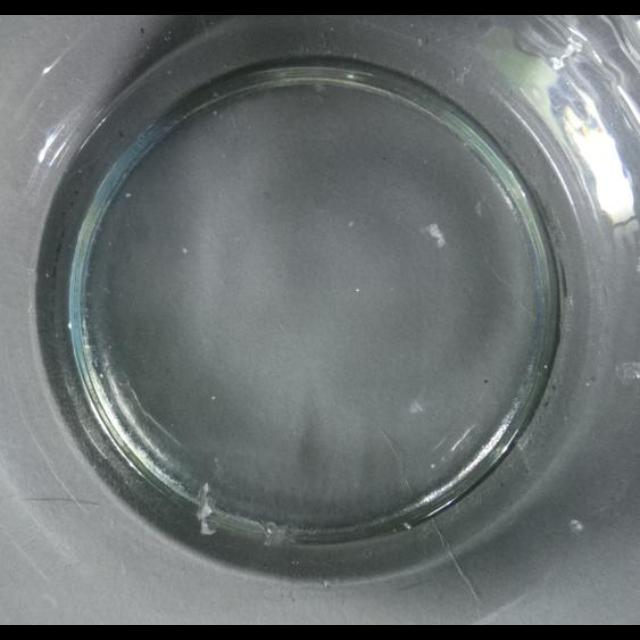Fibre: (259, 522, 291, 548), (424, 223, 446, 249), (474, 200, 484, 218)
microbeads: (570, 519, 584, 533)
